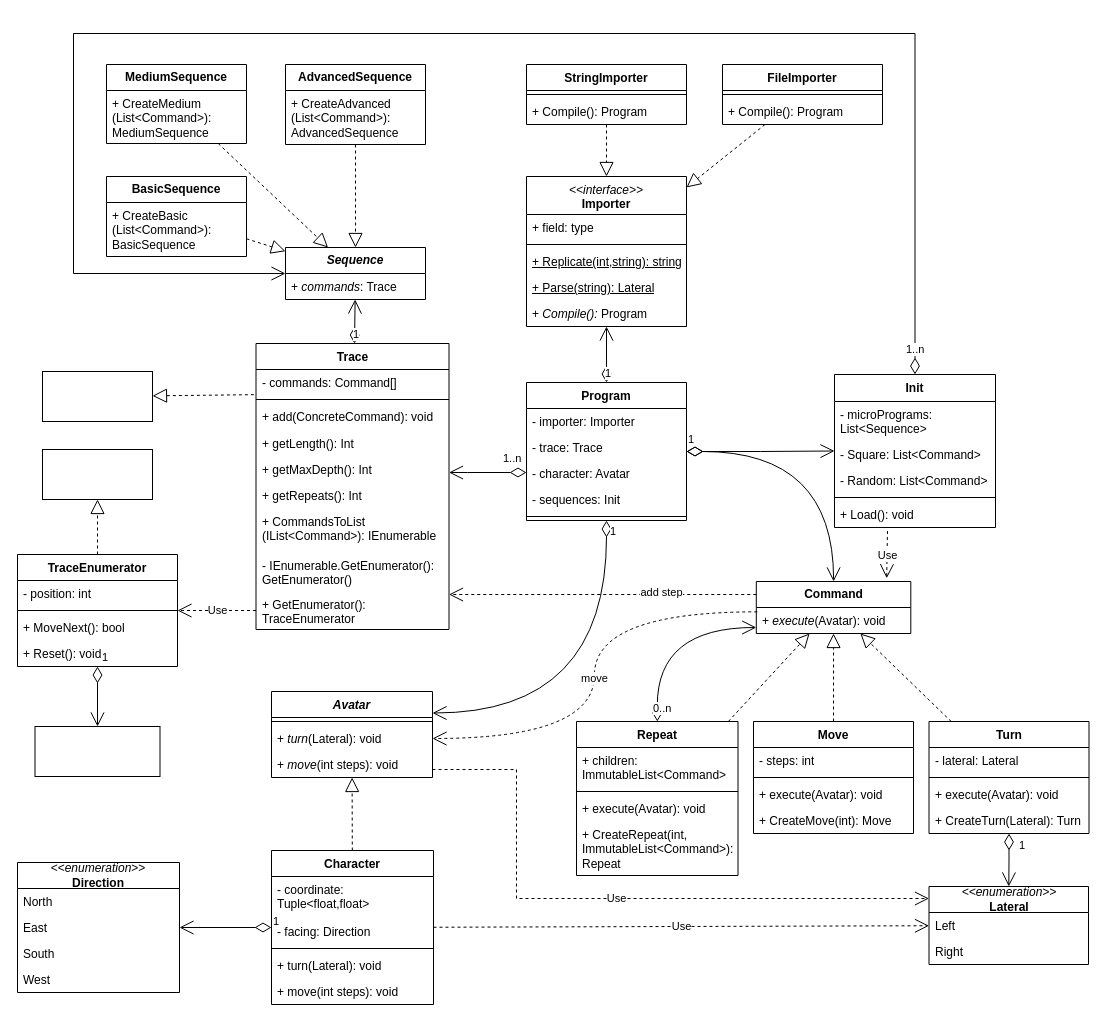
The diagram is 1107 pixels wide and 1025 high, and some of its shapes have lost their labels. The centre of each missing label's shape, as x and y in pixels:
"<< object >> IEnumerator.Current" goes at pixel 97 751.
"«interface» IEnumerable" goes at pixel 97 396.
"«interface» IEnumerator" goes at pixel 97 474.
